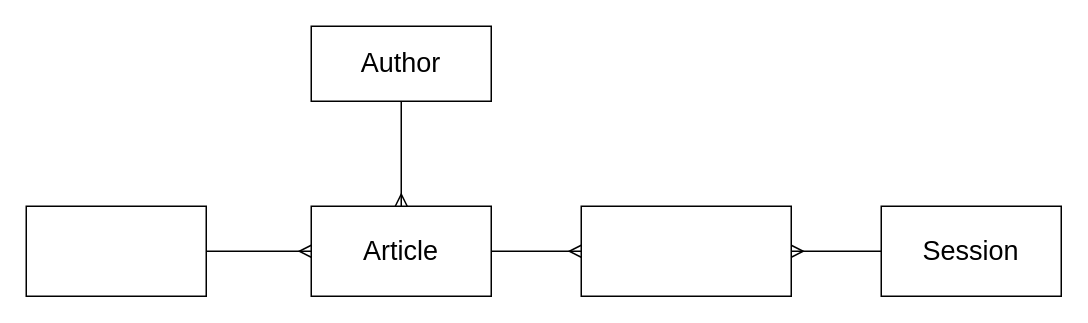
Some shapes in this 1088 by 323 pixel diagram are drawn without their labels. Each missing label, with the centre of its shape:
"Article_Session" goes at (x=685, y=250).
"Site" goes at (x=115, y=250).
